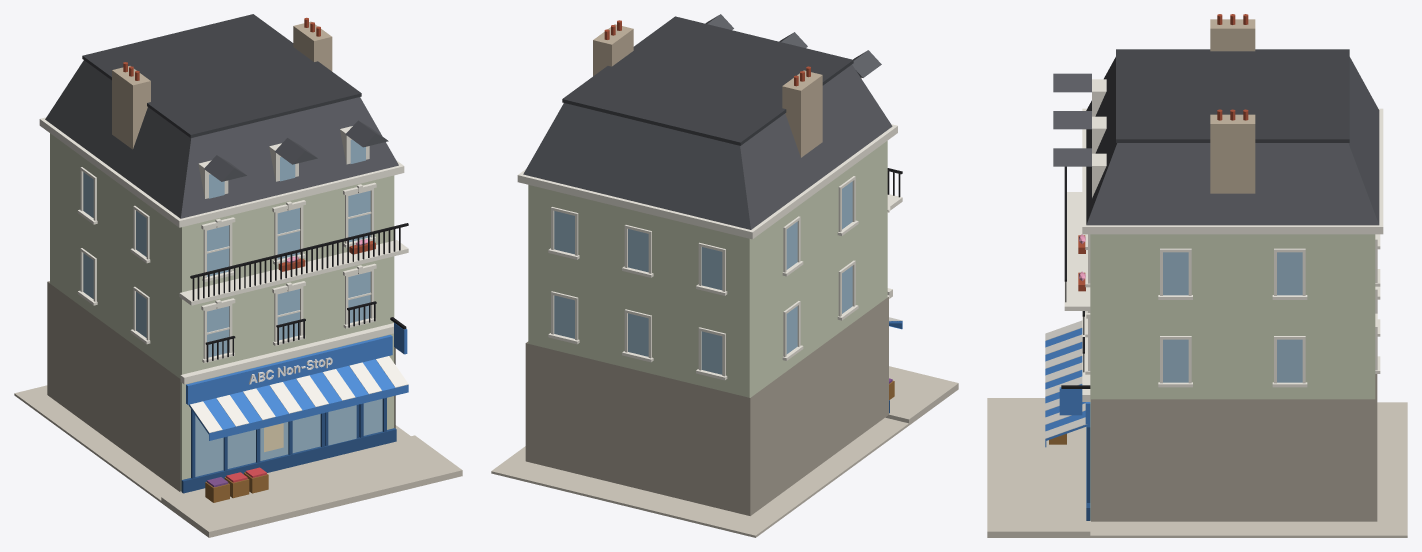
Rendered from Dukkan_abc_nonstop_Hafif.fbx.
3 views of the same model, side by side, from view 1: azimuth 30°, elevation 25°; view 2: azimuth 150°, elevation 25°; view 3: azimuth 270°, elevation 25° (orthographic). The views are drawn at different scales.
Parts seen in each view (by area): view 1: Dukkan_abc_nonstop_Hafif; view 2: Dukkan_abc_nonstop_Hafif; view 3: Dukkan_abc_nonstop_Hafif.
Part boxes in pixels (x1,y1,x2,y2): Dukkan_abc_nonstop_Hafif: (14, 14, 462, 537); Dukkan_abc_nonstop_Hafif: (491, 14, 958, 537); Dukkan_abc_nonstop_Hafif: (987, 14, 1407, 537).
Size of the model in its own units: 9.83 by 14.02 by 13.07.
